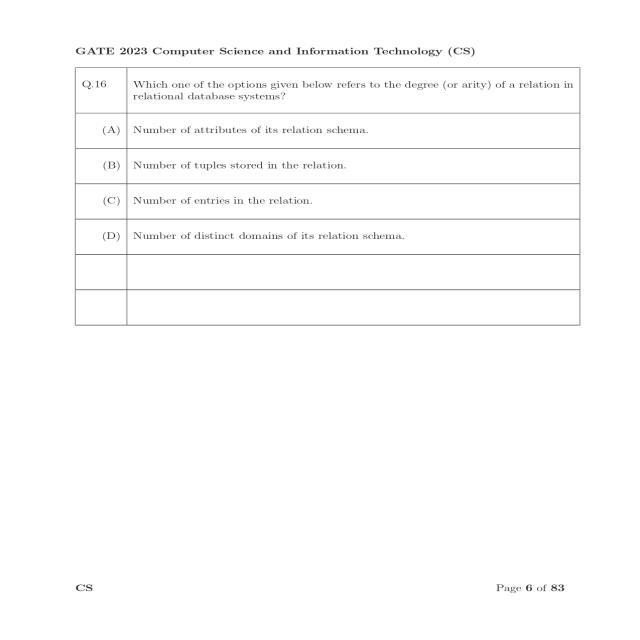Question_Answer_Block: (50, 62, 611, 348), (50, 117, 611, 348)
Question_Block: (50, 62, 611, 113)
Question_Paper_Area: (50, 62, 611, 343)
